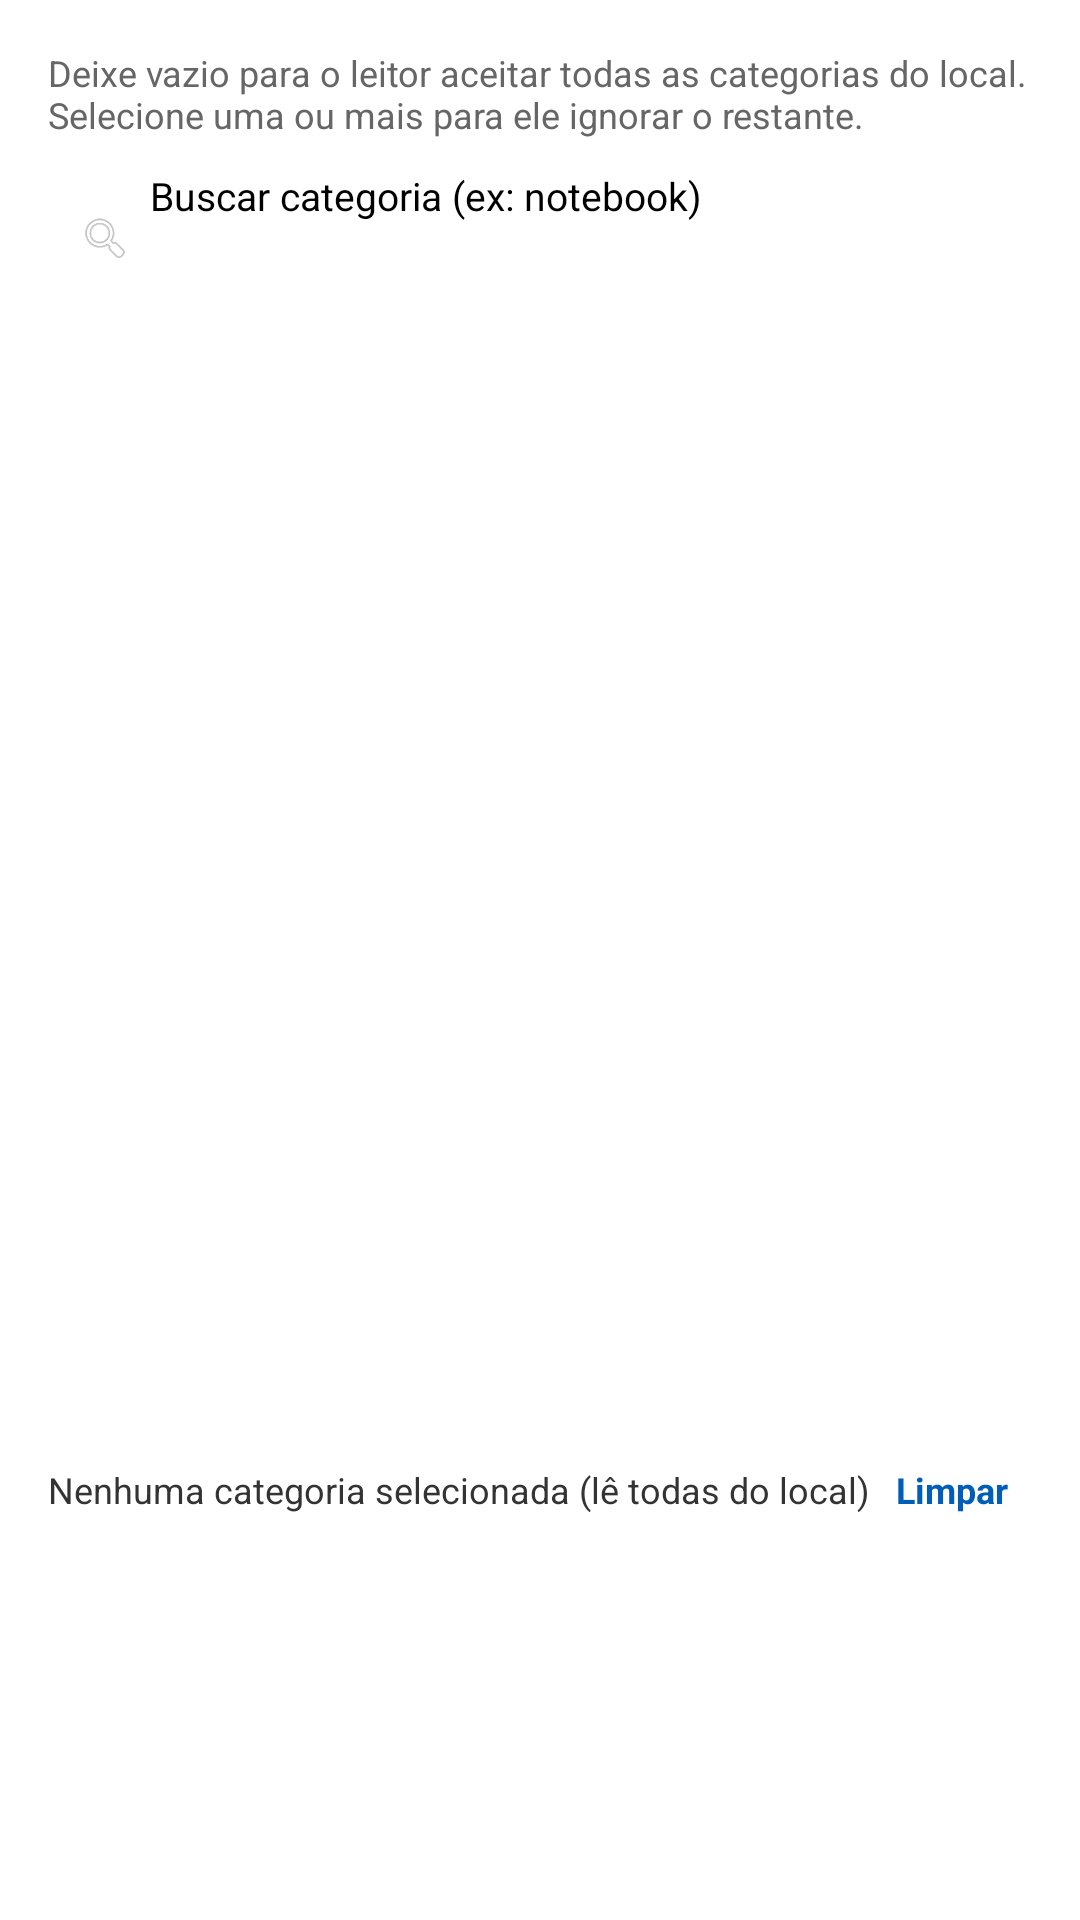

Screen size 1080 × 1920. Icon name, then its center in pixels as [x,y]:
search: [105,238]
